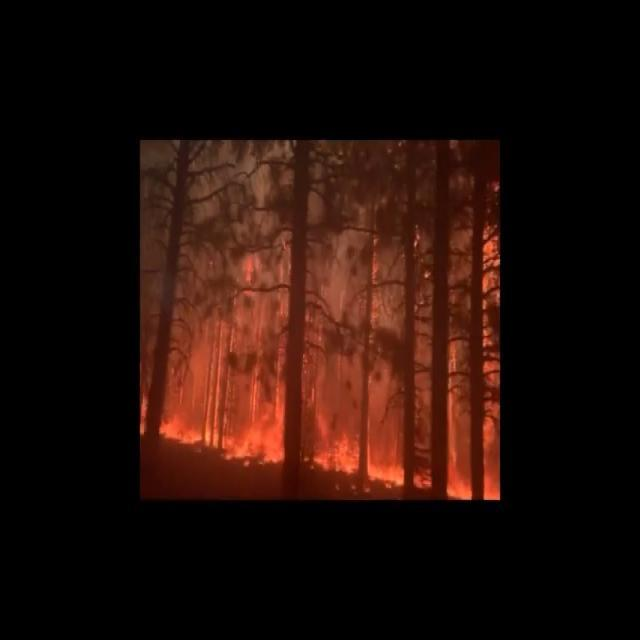Fire: (142, 353, 498, 500)
